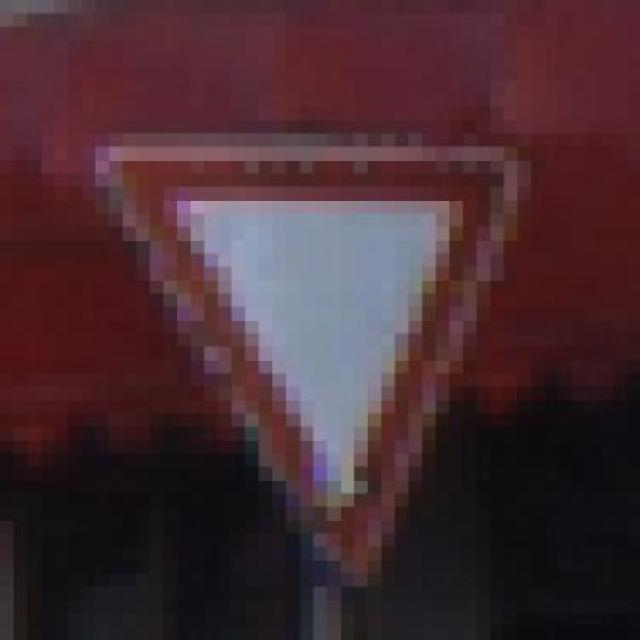Give Way: (68, 93, 558, 587)
